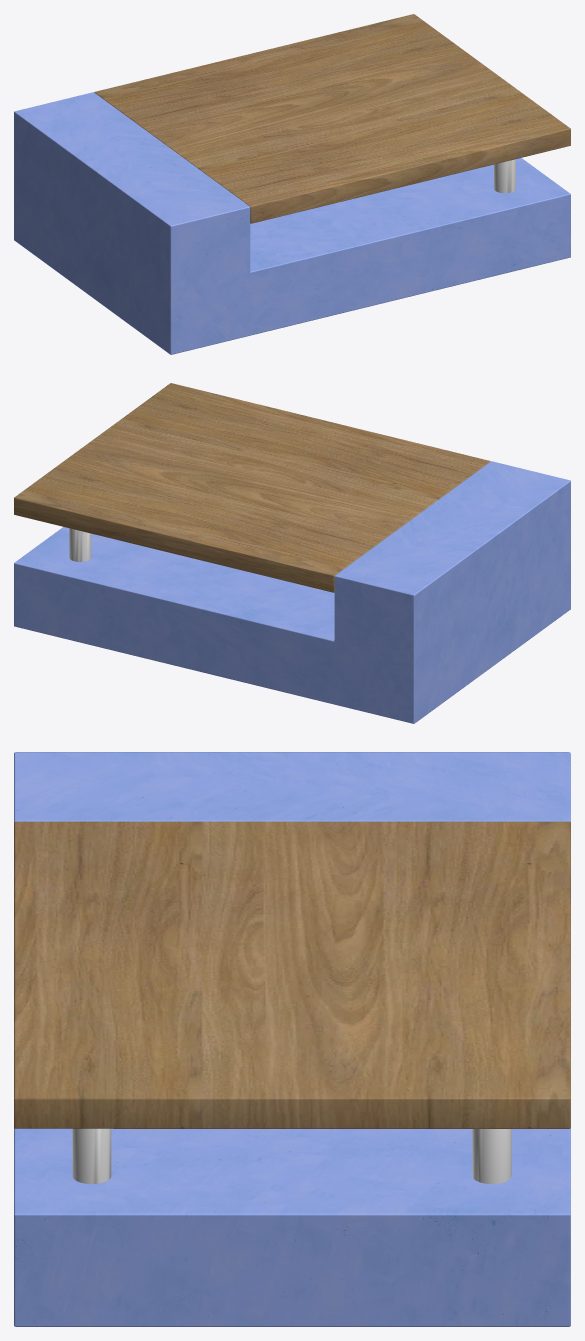
3 views of the same model, one above another, from view 1: azimuth 30°, elevation 25°; view 2: azimuth 150°, elevation 25°; view 3: azimuth 270°, elevation 25° (orthographic). The views are drawn at different scales.
Parts seen in each view (by area): view 1: Coffee Table; view 2: Coffee Table; view 3: Coffee Table.
Boxes of the visible parts, x1,y1,x2,y2 form: Coffee Table: (14, 14, 570, 354); Coffee Table: (14, 383, 570, 723); Coffee Table: (14, 752, 570, 1326).
Bounding box in the file's own units: 1 × 0.3267 × 0.6789.
Materials: 3 (2 with a texture image).
